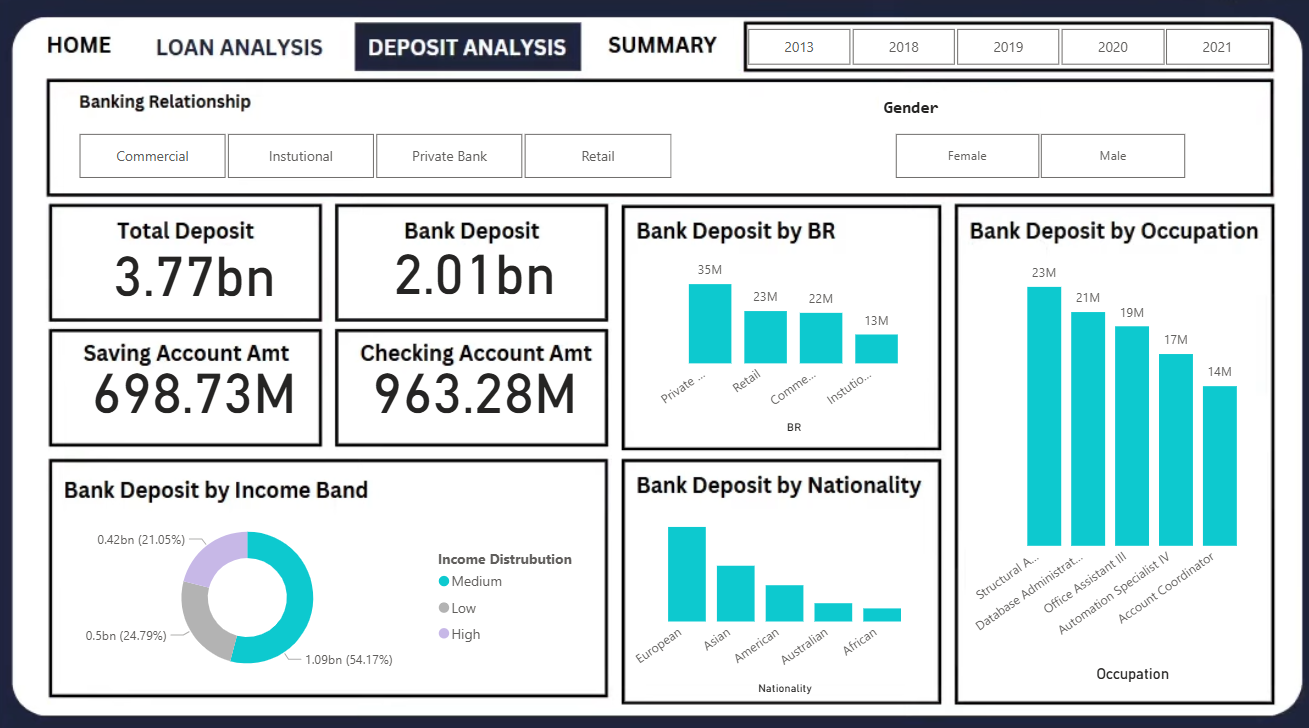

What the dashboard file says about the page in this screenshot:
{"tool":"powerbi","page":{"name":"Deposite Analysis","canvas":[1280,720],"ordinal":2},"visuals":[{"type":"actionButton","box":[148.4,30.2,176.1,41],"z":0},{"type":"actionButton","box":[592.4,30.2,120.6,41],"z":1000},{"type":"actionButton","box":[47.1,30.2,74.8,41],"z":2000},{"type":"card","fields":{"Values":["banking.TotalDeposite"]},"box":[98.9,244.9,195.4,62.7],"z":3000},{"type":"card","fields":{"Values":["Sum(banking.Bank Deposits)"]},"box":[369.2,244.9,195.4,59.1],"z":4000},{"type":"card","fields":{"Values":["Sum(banking.Saving_Accounts)"]},"box":[90.5,360.7,211.1,57.9],"z":5000},{"type":"card","fields":{"Values":["Sum(banking.Checking_Accounts)"]},"box":[354.7,360.7,224.4,57.9],"z":6000},{"type":"slicer","fields":{"Values":["banking.BR"]},"box":[59.1,127.9,621.3,56.7],"z":7000},{"type":"textbox","box":[516.4,89.3,96.5,38.6],"z":8000},{"type":"textbox","box":[856.6,95.3,155.6,38.6],"z":8001},{"type":"slicer","fields":{"Values":["banking.Gender"]},"box":[846.9,127.9,329.4,56.7],"z":8002},{"type":"slicer","fields":{"Values":["banking.Year of joining"]},"box":[704.6,26.5,552.5,48.3],"z":8003},{"type":"donutChart","fields":{"Category":["banking.Income Distrubution"],"Y":["Sum(banking.Bank Deposits)"]},"box":[59.1,495.8,520,173.7],"z":8004},{"type":"columnChart","fields":{"Category":["banking.BR"],"Y":["Sum(banking.Bank Deposits)"]},"box":[621.3,244.9,282.3,184.6],"z":8005},{"type":"columnChart","fields":{"Category":["banking.Nationality"],"Y":["Sum(banking.Bank Deposits)"]},"box":[612.9,487.4,290.8,194.2],"z":8006},{"type":"columnChart","fields":{"Category":["banking.Occupation"],"Y":["Sum(banking.Bank Deposits)"]},"box":[943.4,244.9,282.3,424.7],"z":8007}]}

Visuals, with their boxes in screenshot pixels (x1, y1, x2, y2), scaled from the page's 1280x720 canvas onto the 1309x728 screenshot:
actionButton: l=152, t=31, r=332, b=72
actionButton: l=606, t=31, r=729, b=72
actionButton: l=48, t=31, r=125, b=72
card - banking.TotalDeposite: l=101, t=248, r=301, b=311
card - Sum(banking.Bank Deposits): l=378, t=248, r=577, b=307
card - Sum(banking.Saving_Accounts): l=93, t=365, r=308, b=423
card - Sum(banking.Checking_Accounts): l=363, t=365, r=592, b=423
slicer - banking.BR: l=60, t=129, r=696, b=187
textbox: l=528, t=90, r=627, b=129
textbox: l=876, t=96, r=1035, b=135
slicer - banking.Gender: l=866, t=129, r=1203, b=187
slicer - banking.Year of joining: l=721, t=27, r=1286, b=76
donutChart - banking.Income Distrubution x Sum(banking.Bank Deposits): l=60, t=501, r=592, b=677
columnChart - banking.BR x Sum(banking.Bank Deposits): l=635, t=248, r=924, b=434
columnChart - banking.Nationality x Sum(banking.Bank Deposits): l=627, t=493, r=924, b=689
columnChart - banking.Occupation x Sum(banking.Bank Deposits): l=965, t=248, r=1253, b=677
